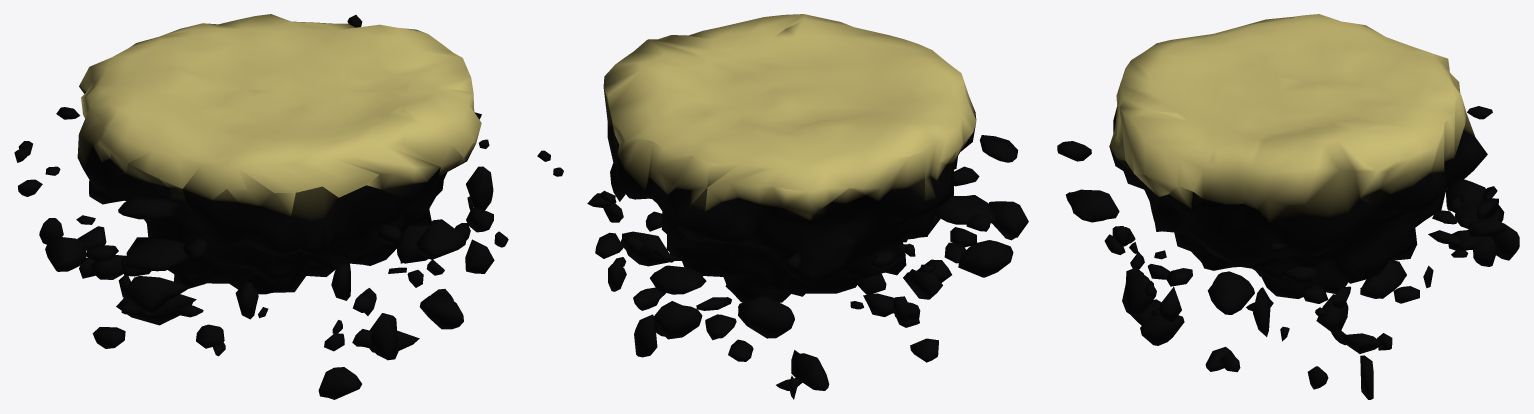
File: Island_Base_Mesh.fbx
The picture shows the model from 3 angles, left to right: view 1: azimuth 30°, elevation 25°; view 2: azimuth 150°, elevation 25°; view 3: azimuth 270°, elevation 25°; orthographic projection. The views are drawn at different scales.
Parts seen in each view (by area): view 1: Island_Base_Mesh; view 2: Island_Base_Mesh; view 3: Island_Base_Mesh.
Part boxes in pixels (<box>): Island_Base_Mesh: <box>14,14,508,399</box>; Island_Base_Mesh: <box>537,14,1028,399</box>; Island_Base_Mesh: <box>1057,14,1519,399</box>.
Bounding box in the file's own units: 53.83 × 32.77 × 49.25.
